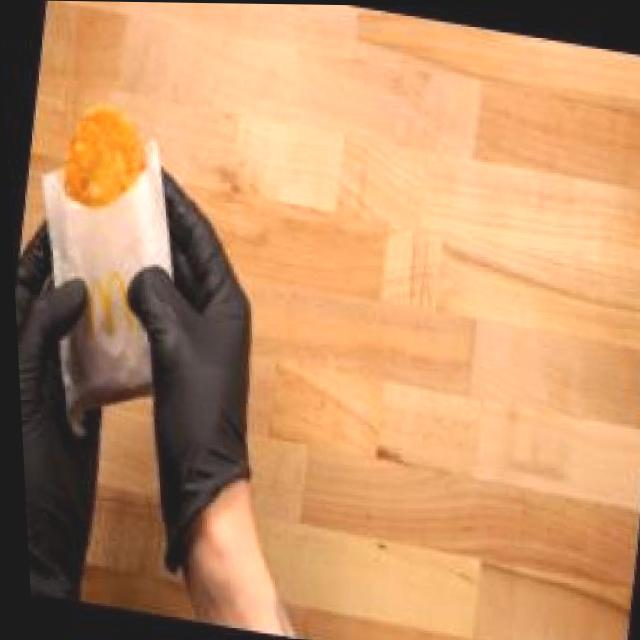Hashbrown: (43, 83, 170, 255)
